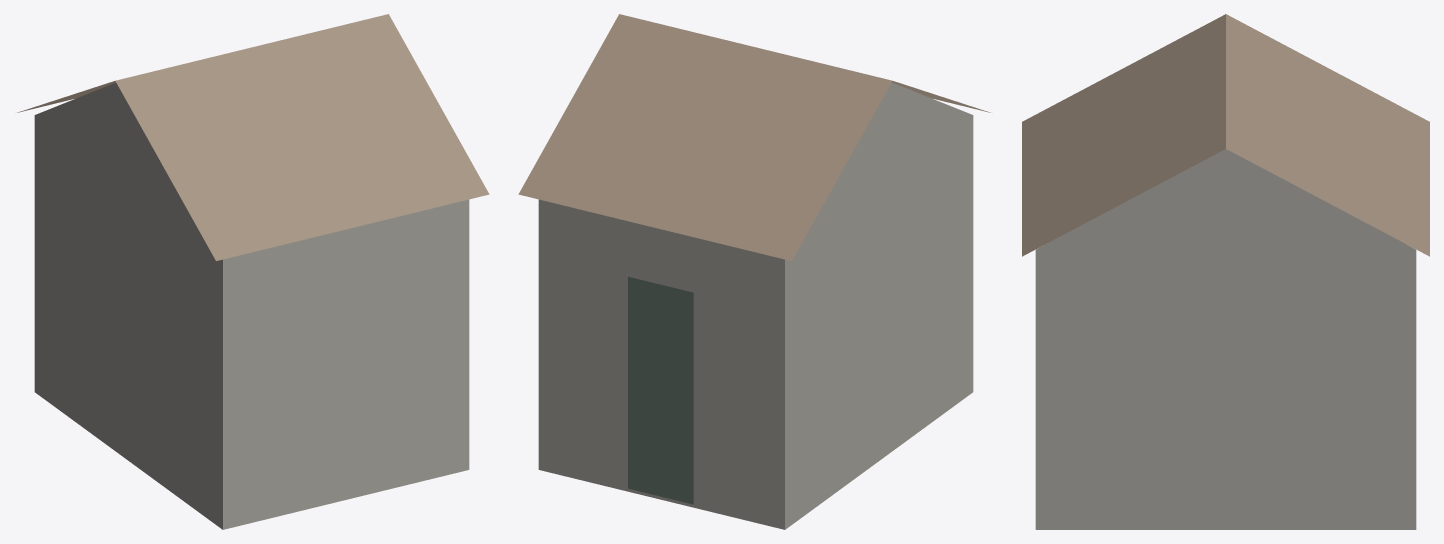
Rendered from recon_1835_south_a5_044__recommended_1835.glb.
3 renders of one model, left to right at view 1: azimuth 30°, elevation 25°; view 2: azimuth 150°, elevation 25°; view 3: azimuth 270°, elevation 25°, orthographic.
Parts seen in each view (by area): view 1: recon_1835_south_a5_044__recommended_1835; view 2: recon_1835_south_a5_044__recommended_1835; view 3: recon_1835_south_a5_044__recommended_1835.
Boxes of the visible parts, x1,y1,x2,y2 form: recon_1835_south_a5_044__recommended_1835: (17, 14, 489, 529); recon_1835_south_a5_044__recommended_1835: (518, 14, 990, 529); recon_1835_south_a5_044__recommended_1835: (1022, 14, 1429, 529).
Bounding box in the file's own units: 2.84 × 3.81 × 3.63.
